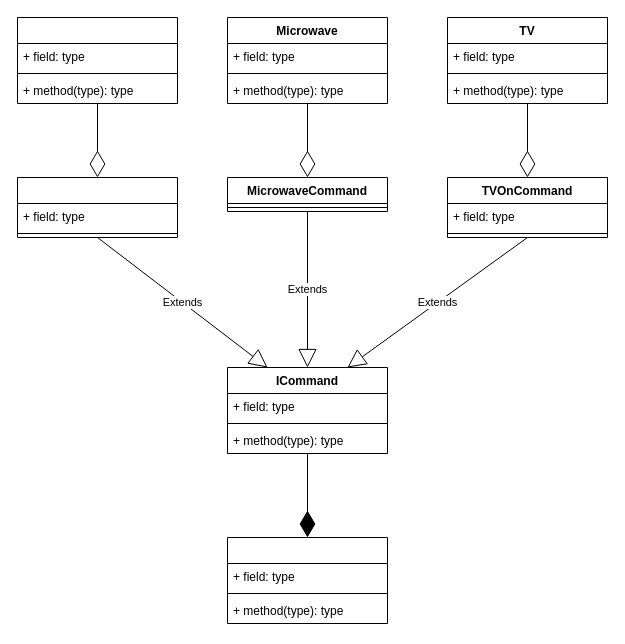
This 625x644 diagram has some shape labels left out. Each missing label, with the box of its shape:
MultiPult: (226, 536, 388, 624)
Volume: (16, 16, 178, 104)
VolumeCommand: (16, 176, 178, 238)
